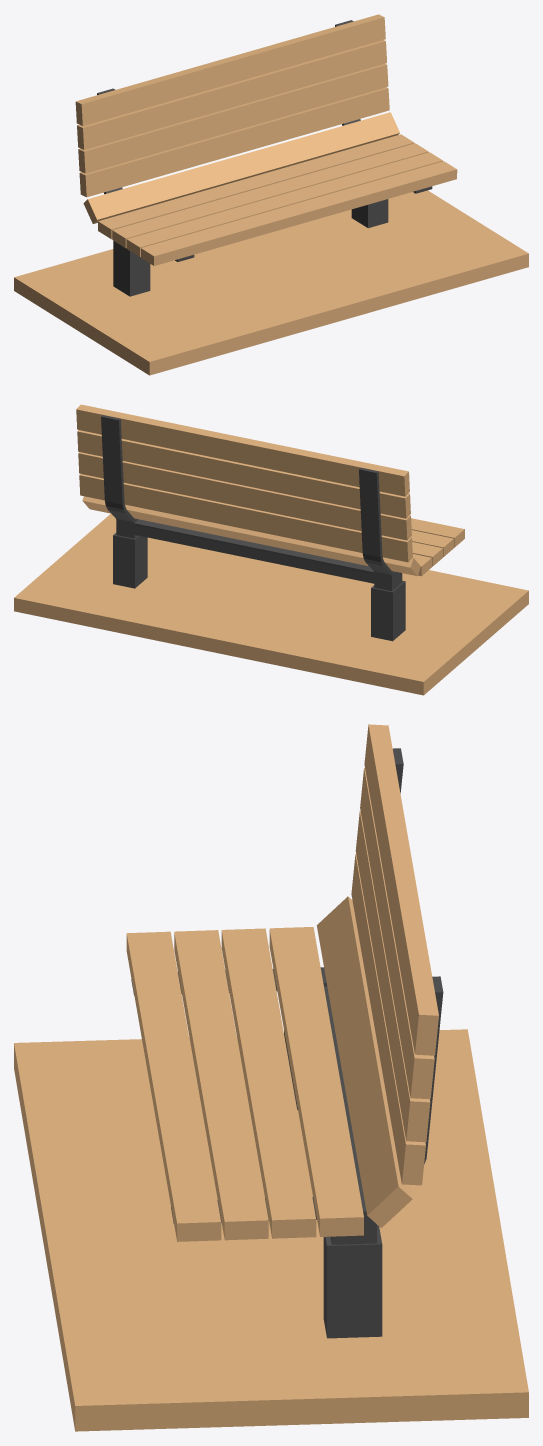
File: Bench.fbx
3 renders of one model, top to bottom at view 1: azimuth 30°, elevation 25°; view 2: azimuth 150°, elevation 25°; view 3: azimuth 270°, elevation 25°, orthographic. The views are drawn at different scales.
Parts seen in each view (by area): view 1: Cube.027; view 2: Cube.027; view 3: Cube.027.
Part boxes in pixels (<box>): Cube.027: <box>14,14,528,375</box>; Cube.027: <box>14,404,528,695</box>; Cube.027: <box>14,724,528,1431</box>.
Bounding box in the file's own units: 1314 × 599 × 759.
